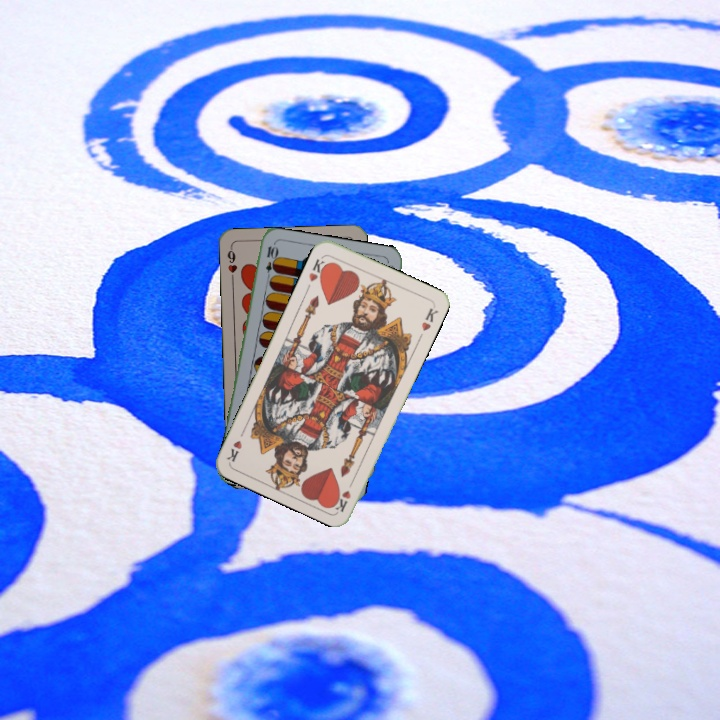E10: (261, 242, 278, 283)
H9: (224, 244, 239, 284)
HK: (331, 474, 357, 514), (305, 255, 331, 284)
